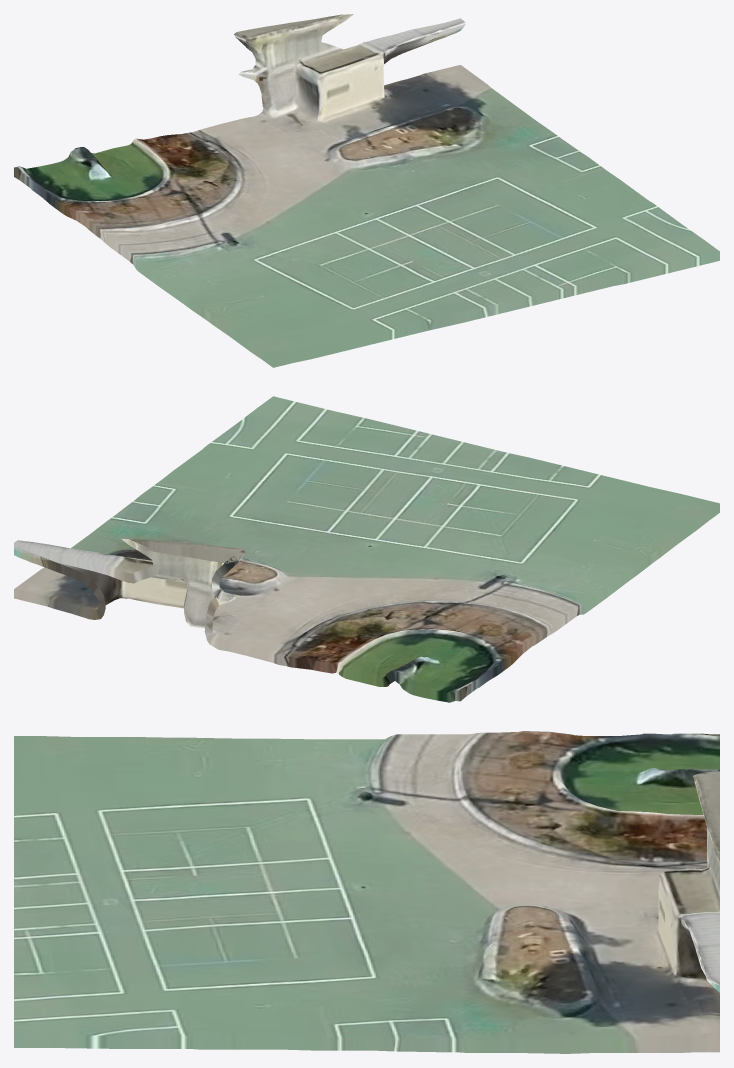
Rendered from z20-167737-405194-h0-yup-uvflip-v3-world.glb.
3 views of the same model, one above another, from view 1: azimuth 30°, elevation 25°; view 2: azimuth 150°, elevation 25°; view 3: azimuth 270°, elevation 25° (orthographic). The views are drawn at different scales.
Bounding box in the file's own units: 30.16 × 6.4 × 30.32.
1 material, 1 textured.
